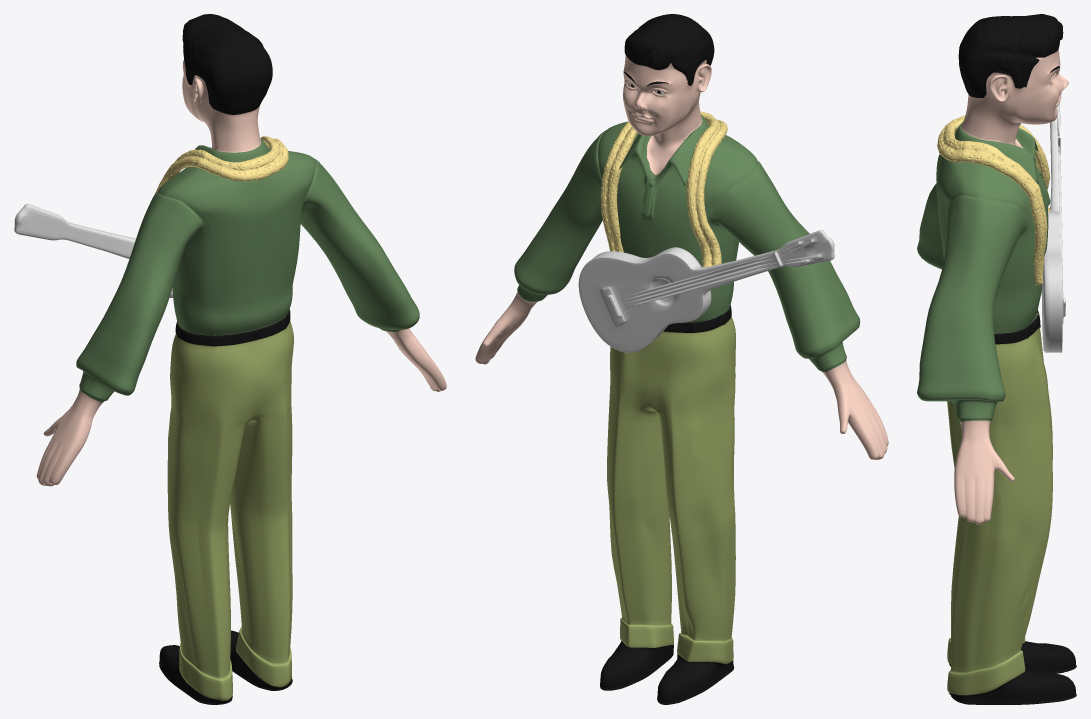
File: ukeboy.fbx
The picture shows the model from 3 angles, left to right: view 1: azimuth 30°, elevation 25°; view 2: azimuth 150°, elevation 25°; view 3: azimuth 270°, elevation 25°; orthographic projection. The views are drawn at different scales.
Visible parts, largest first — view 1: ukeboy, ukulele, strap; view 2: ukeboy, ukulele, strap; view 3: ukeboy, strap, ukulele.
Boxes of the visible parts, x1,y1,x2,y2 form: ukeboy: (36,14,446,704); ukulele: (14,204,173,297); strap: (155,136,288,193); ukeboy: (475,14,888,704); ukulele: (578,230,834,352); strap: (601,111,727,267); ukeboy: (917,14,1076,704); strap: (937,115,1050,285); ukulele: (1041,103,1065,352).
Size of the model in its own units: 95.14 by 147 by 32.02.
